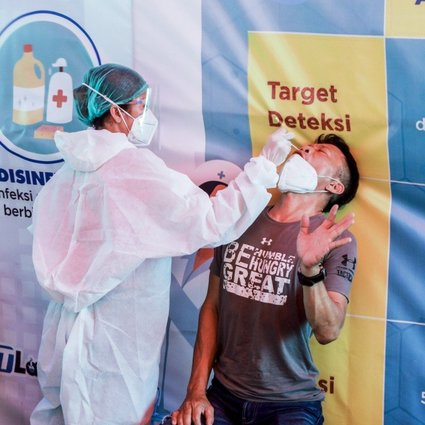Coverall: (29, 128, 174, 425)
Face_Shield: (117, 78, 169, 153)
Gloves: (258, 120, 296, 168)
mask_weared_incorrect: (278, 142, 333, 195)
with_mask: (128, 97, 158, 144)
